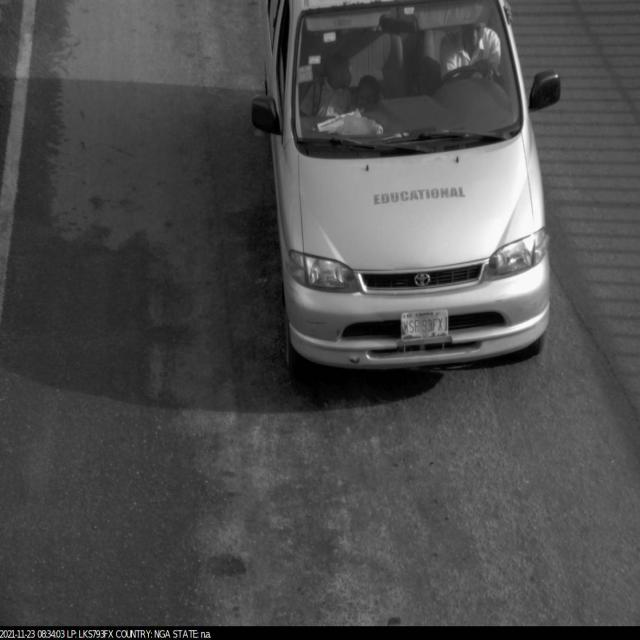windshield: (284, 2, 528, 160)
